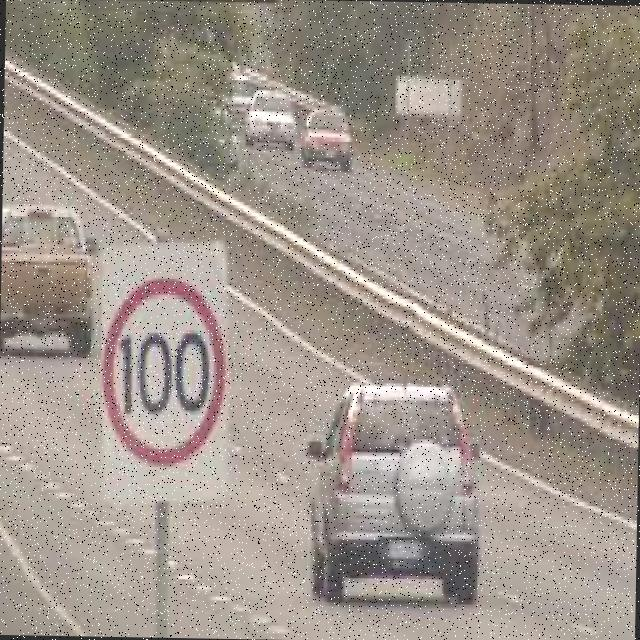Ograniczenie predkosci do 100: (100, 280, 226, 470)
